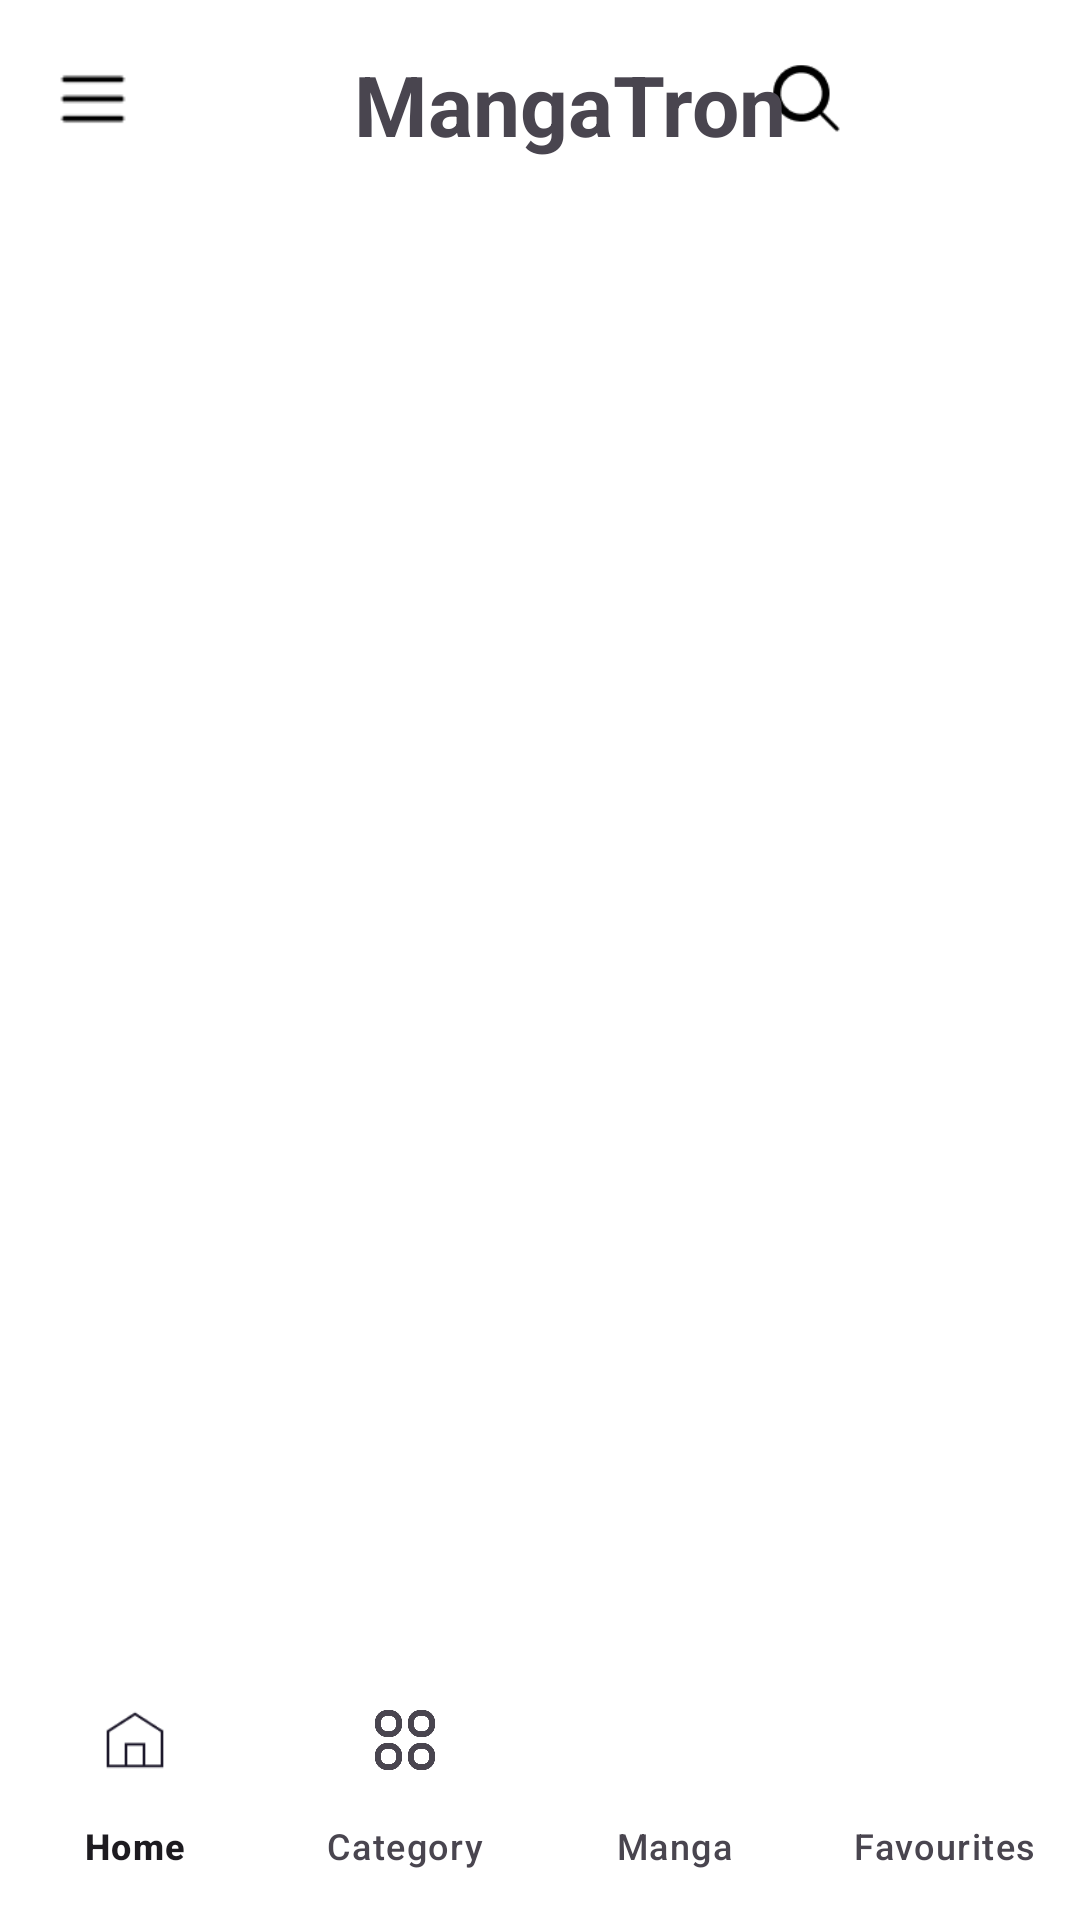

Icons on this 1080*1920 Android screen, each with its box as (x1, y1, x2, y2):
hamburger: (60, 75, 126, 123)
